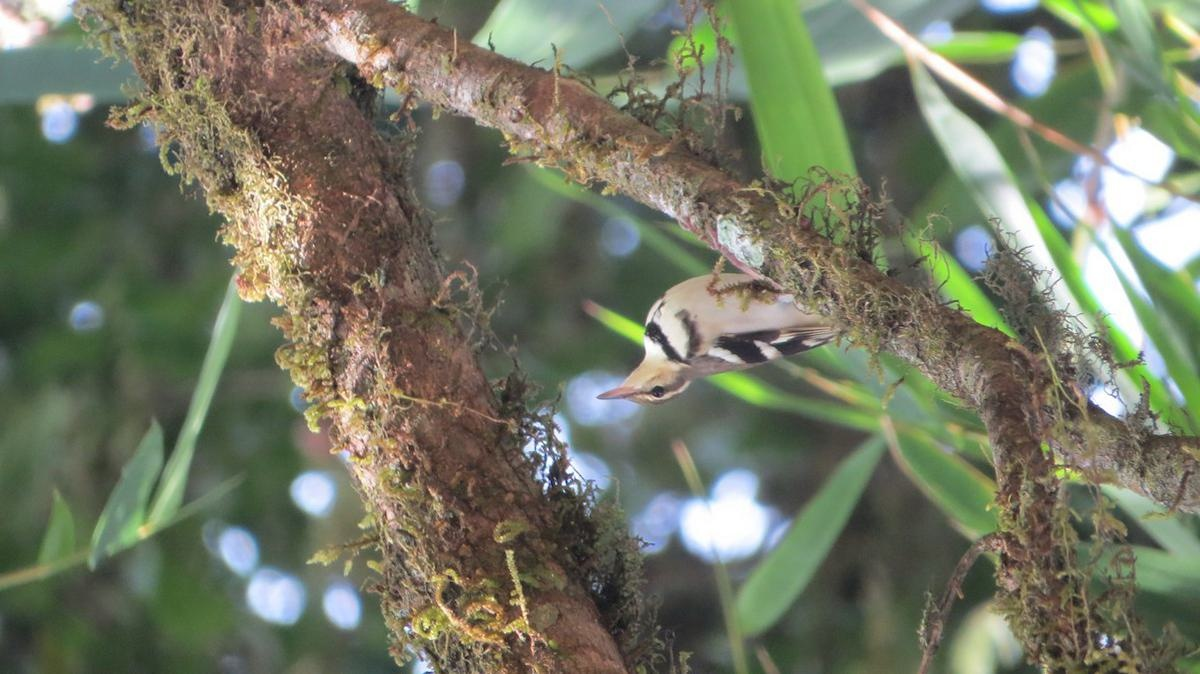wagtail: (594, 242, 856, 405)
